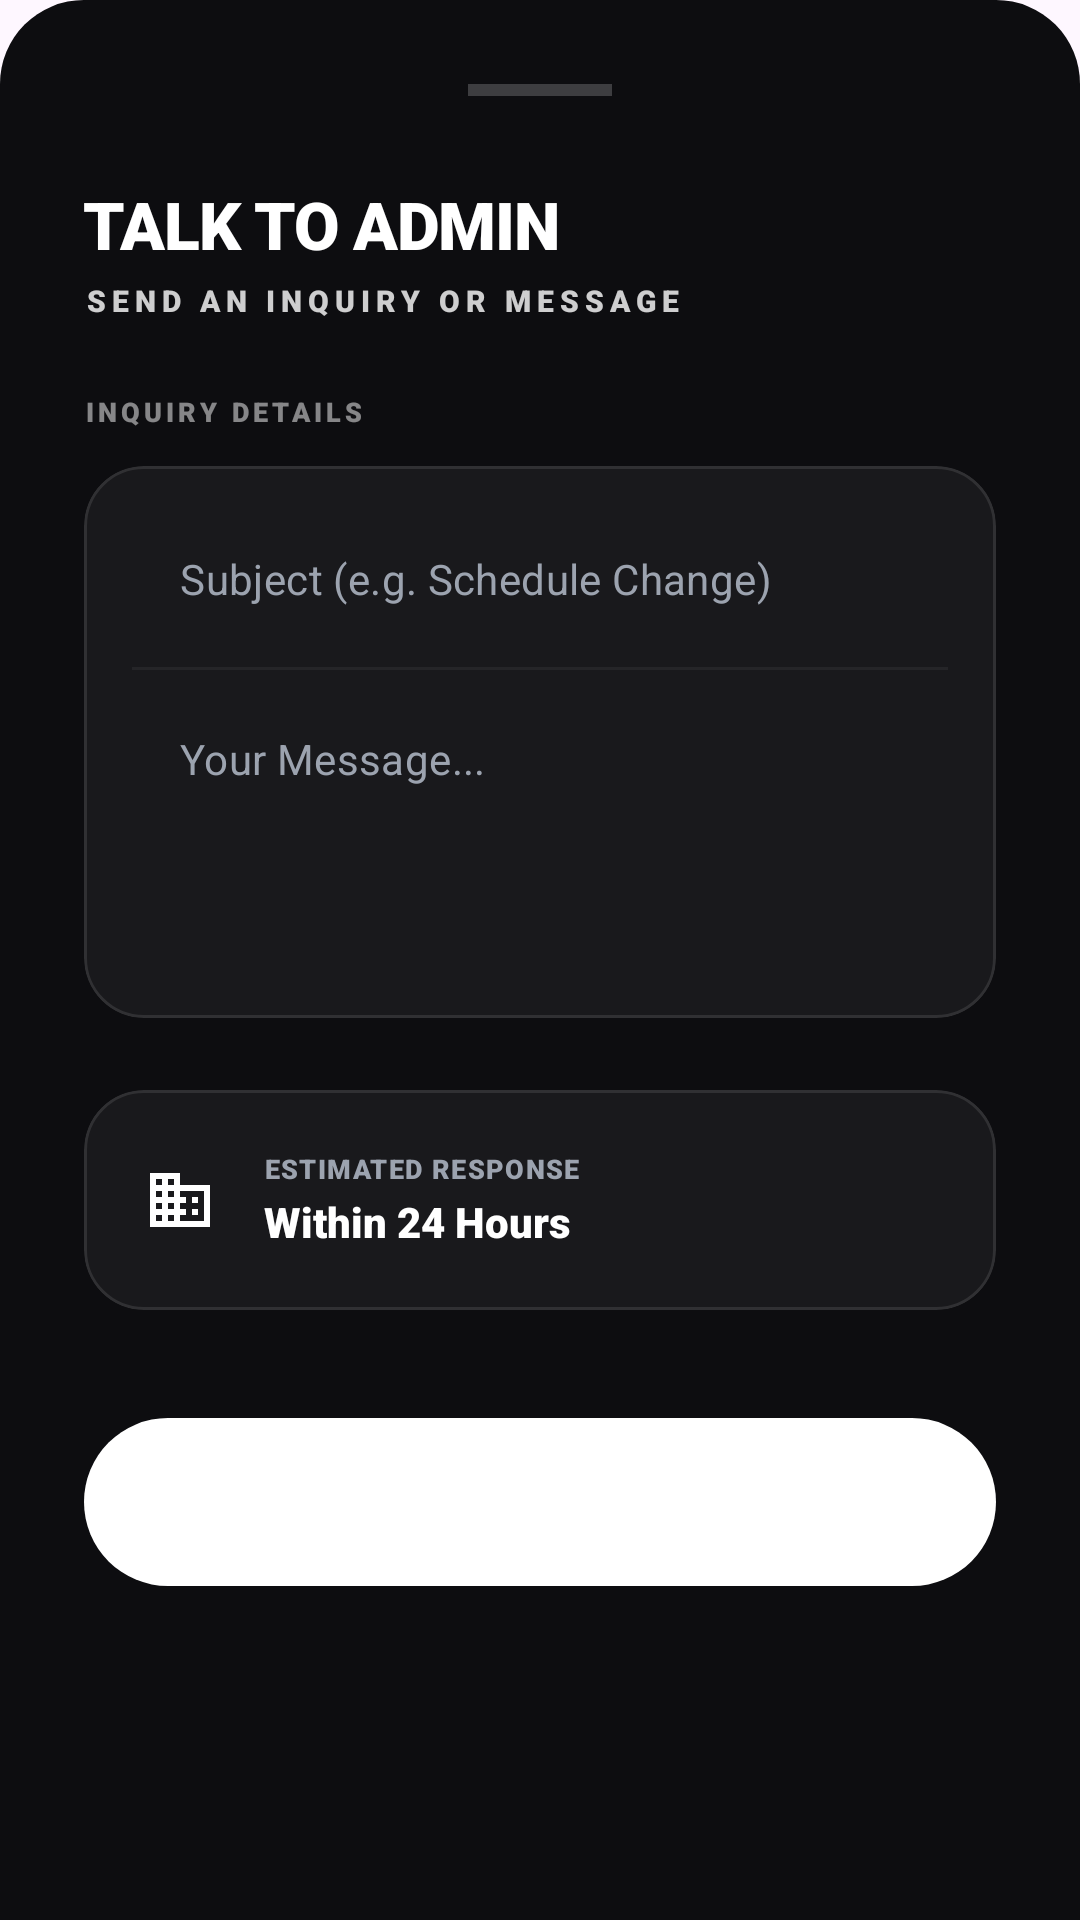

Icons on this 1080*1920 Android screen, each with the point to tap as point (x, y):
business: point (180, 1200)
